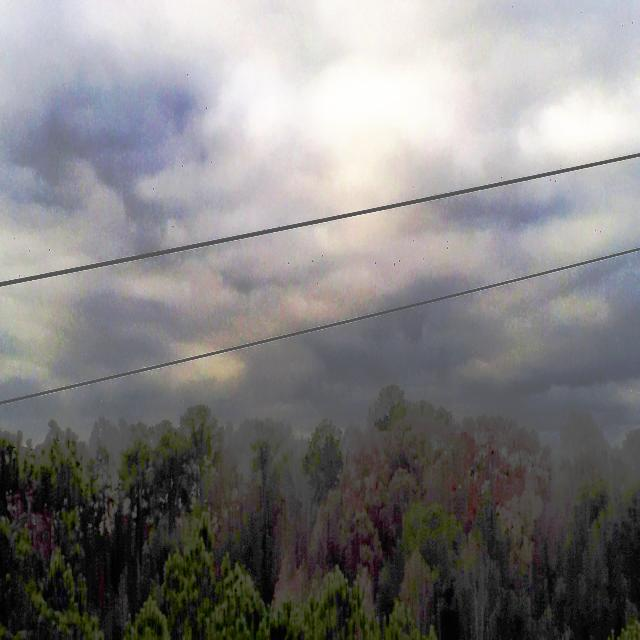wires: (8, 241, 636, 415), (3, 140, 637, 303)
